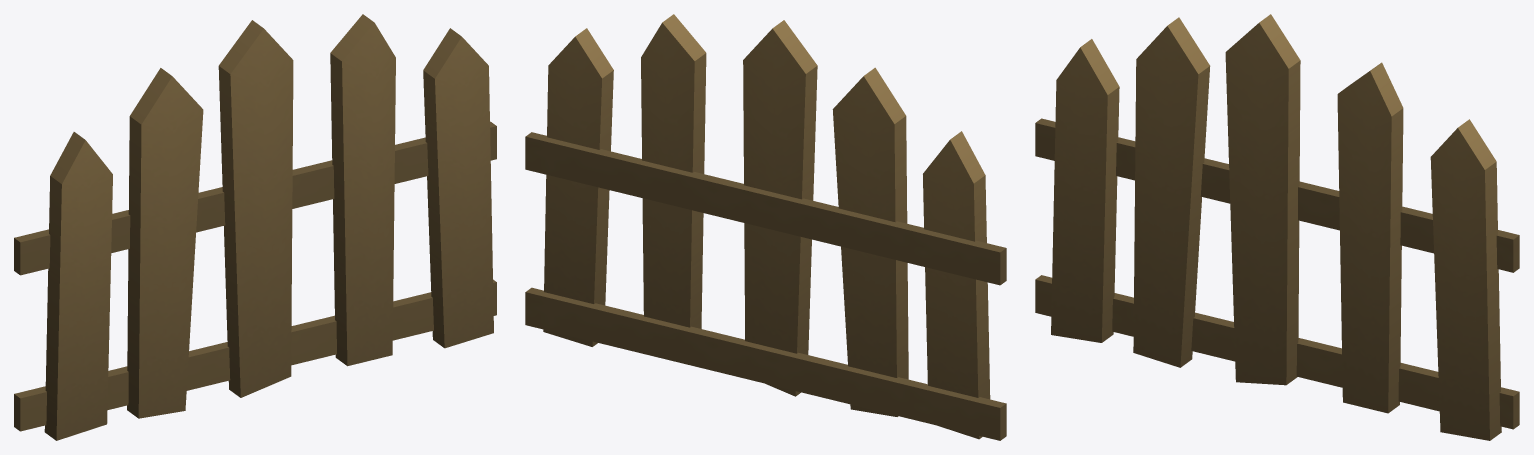
Rendered from Fence_G2.glb.
3 renders of one model, left to right at view 1: azimuth 30°, elevation 25°; view 2: azimuth 150°, elevation 25°; view 3: azimuth 330°, elevation 25°, orthographic.
Visible parts, largest first — view 1: Fence_G2.004; view 2: Fence_G2.004; view 3: Fence_G2.004.
Boxes of the visible parts, bbox=[...] form: Fence_G2.004: bbox=[14, 14, 496, 440]; Fence_G2.004: bbox=[525, 14, 1006, 440]; Fence_G2.004: bbox=[1035, 14, 1519, 440].
Bounding box in the file's own units: 2.08 × 1.51 × 0.1243.
1 material, 1 textured.
